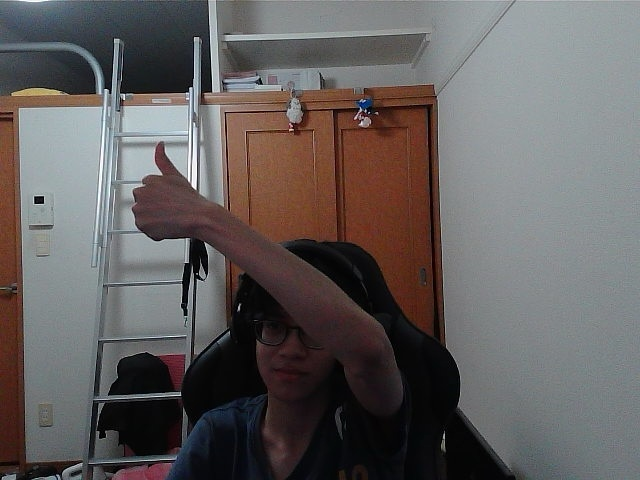thumb_up: (137, 148, 192, 228)
